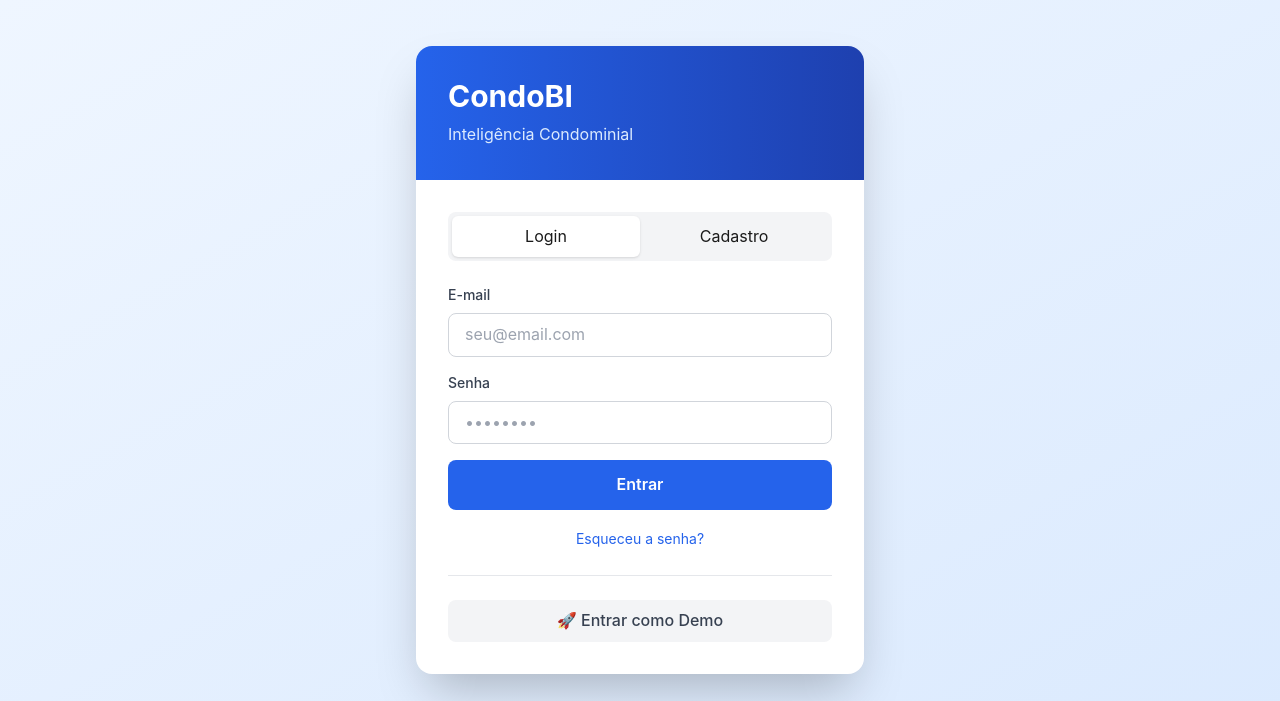
Test: Portal Page › switches between login and register tabs
This screenshot has width=1280, height=701.
What coordinates should you click on to do the following:
click the button "Cadastro"
I would click on:
 (734, 236)
Its box is [640,216,828,257].
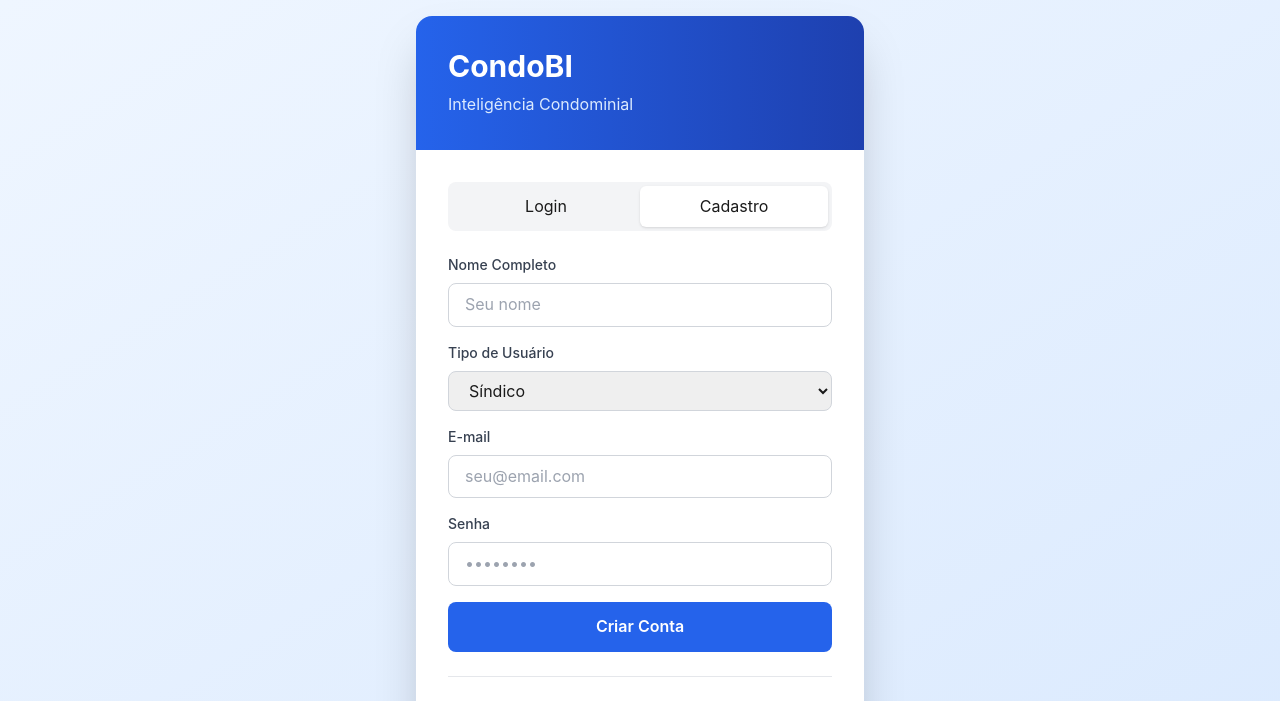
expect the text "Nome Completo" is shown: met, box [448,256,556,273]
